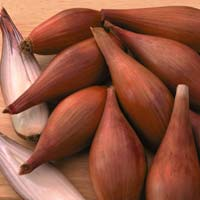onion: (19, 81, 120, 184), (86, 87, 150, 199), (147, 83, 199, 198), (19, 4, 109, 58)
